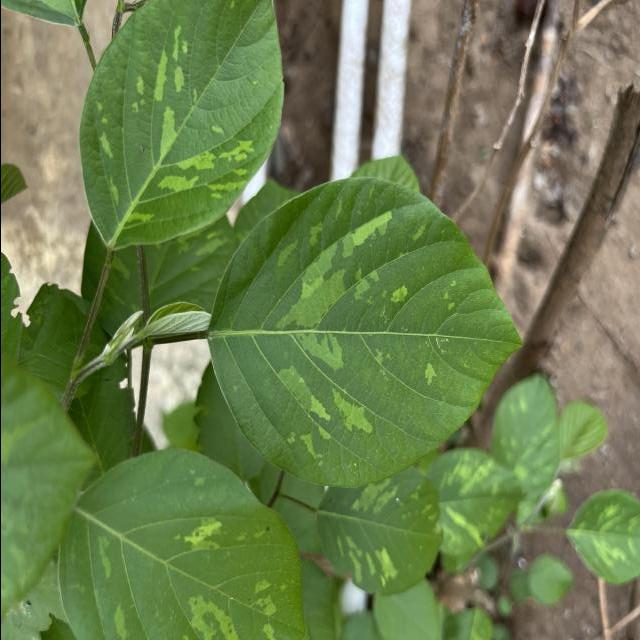Desmodium gangeticum: (204, 173, 527, 492), (73, 0, 290, 253)
